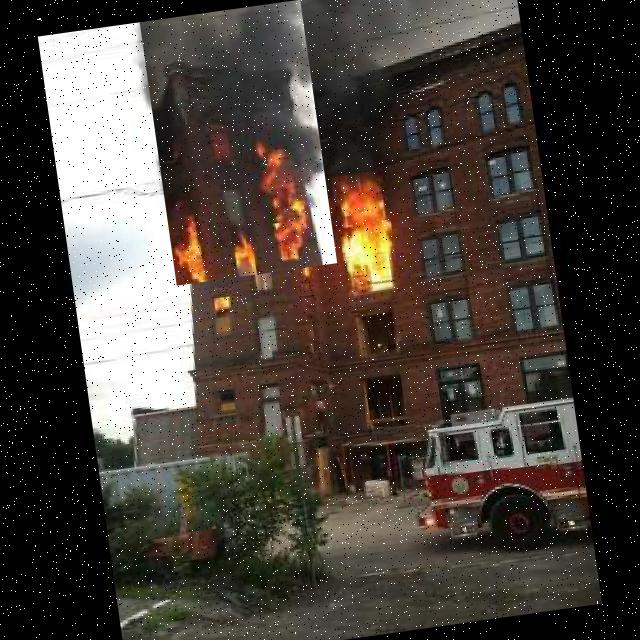fire: (140, 0, 337, 285), (331, 170, 402, 306)
